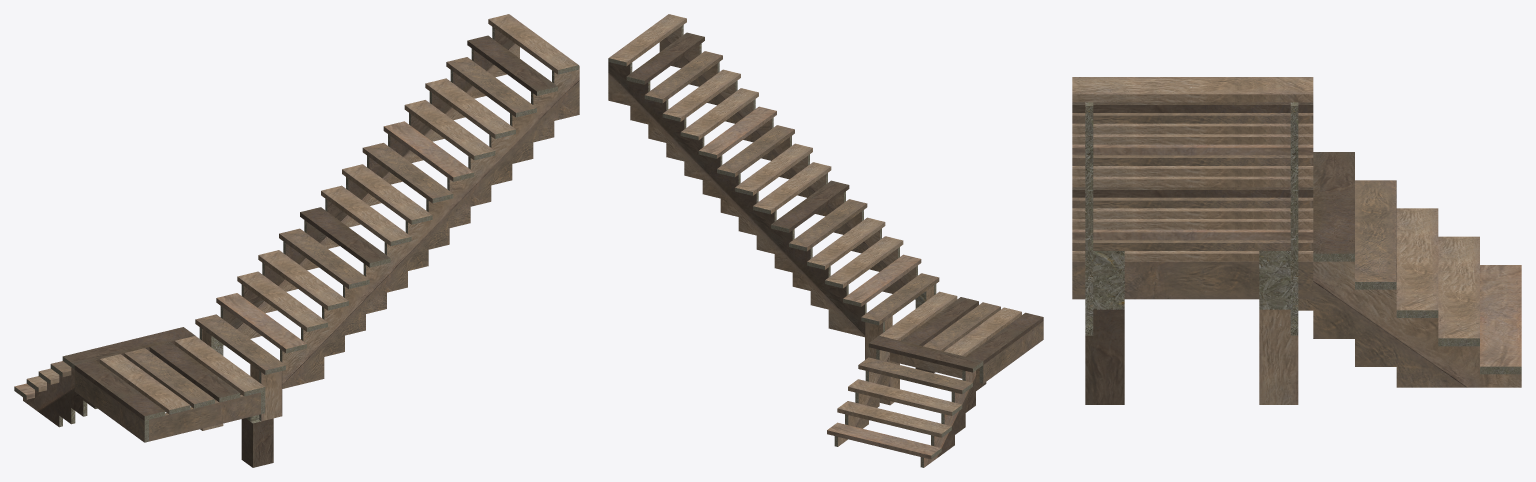
File: WoodStaircaseA.fbx
3 renders of one model, left to right at view 1: azimuth 30°, elevation 25°; view 2: azimuth 150°, elevation 25°; view 3: azimuth 270°, elevation 25°, orthographic. The views are drawn at different scales.
Visible parts, largest first — view 1: WoodStaircaseA; view 2: WoodStaircaseA; view 3: WoodStaircaseA.
Boxes of the visible parts, x1=… form: WoodStaircaseA: x1=14, y1=14, x2=579, y2=467; WoodStaircaseA: x1=608, y1=14, x2=1043, y2=467; WoodStaircaseA: x1=1072, y1=77, x2=1521, y2=404.
Bounding box in the file's own units: 604 × 430 × 310.
